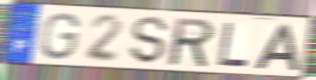2: (84, 12, 124, 64)
A: (252, 22, 301, 71)
G: (39, 11, 82, 62)
L: (217, 20, 252, 68)
R: (169, 17, 217, 69)
S: (129, 15, 170, 66)
